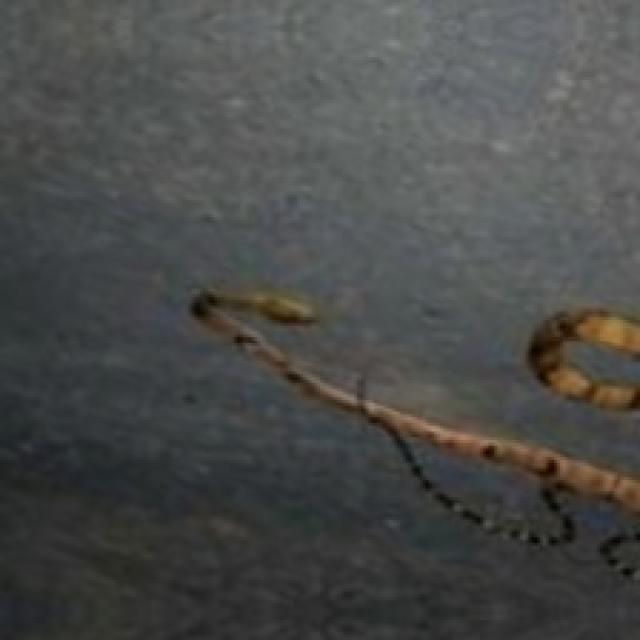dog-toothed cat snake: (191, 291, 637, 526), (529, 309, 637, 406)
